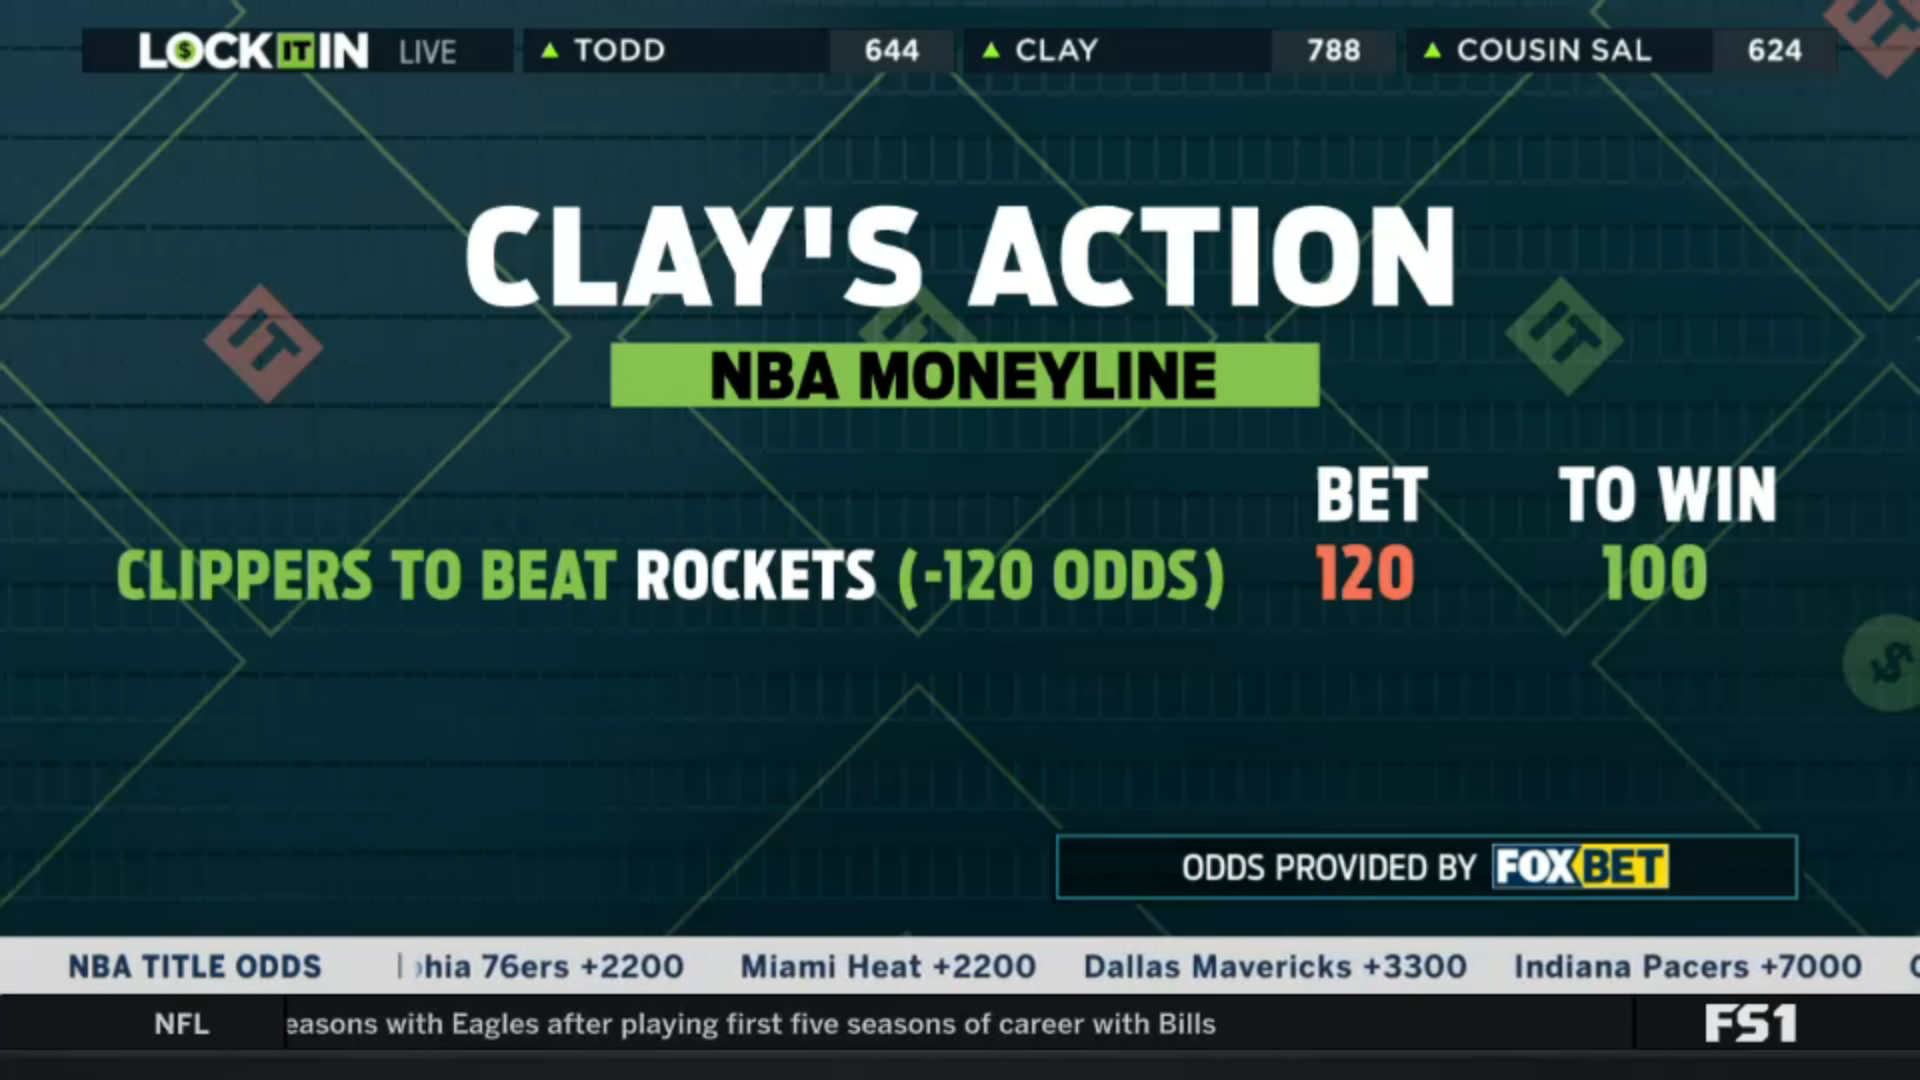Bet: (107, 539, 1236, 621)
Bet Amount: (1304, 451, 1441, 618)
Subtitle: (601, 334, 1328, 415)
Title: (454, 193, 1472, 320)
To Win: (1548, 451, 1787, 618)
Top Bar: (73, 18, 1849, 80)
